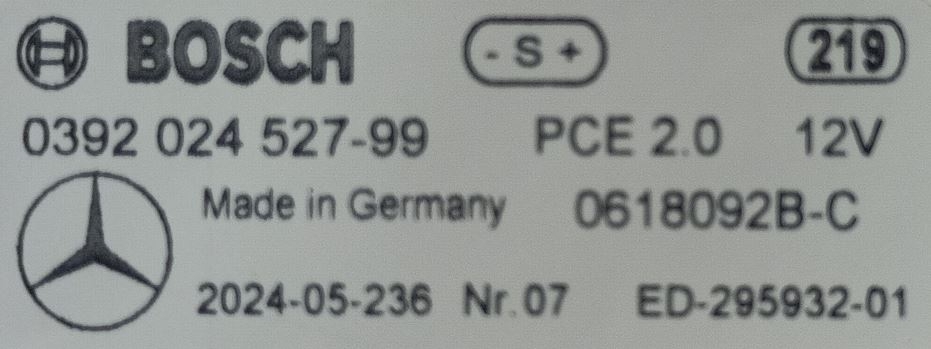p1: (9, 105, 440, 164)
p2: (528, 104, 738, 165)
p3: (565, 174, 873, 238)
p5: (625, 268, 919, 332)
